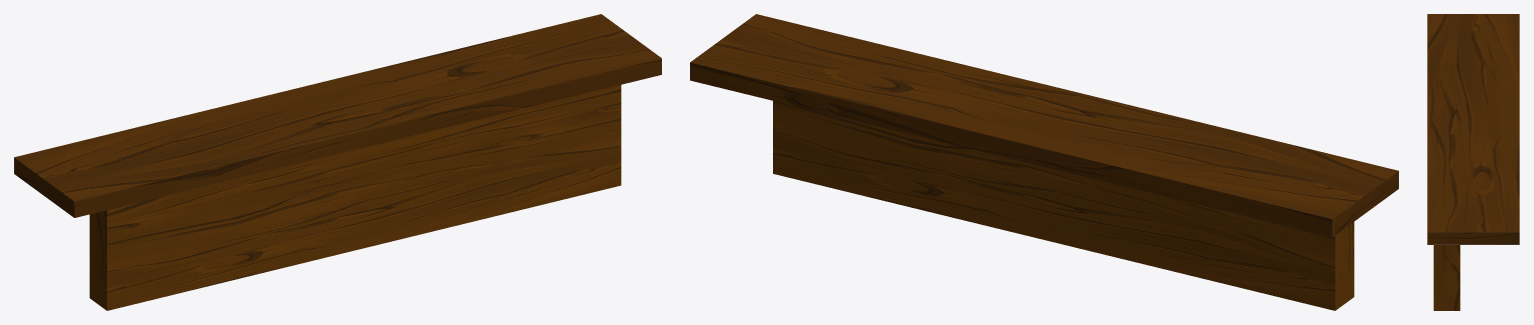
The model's file is ShopTable.fbx.
The picture shows the model from 3 angles, left to right: view 1: azimuth 30°, elevation 25°; view 2: azimuth 150°, elevation 25°; view 3: azimuth 270°, elevation 25°; orthographic projection. The views are drawn at different scales.
Visible parts, largest first — view 1: Table; view 2: Table; view 3: Table.
Boxes of the visible parts, bbox=[...] form: Table: bbox=[14, 14, 661, 310]; Table: bbox=[690, 14, 1398, 310]; Table: bbox=[1427, 14, 1519, 310].
Size of the model in its own units: 561 by 111 by 100.
